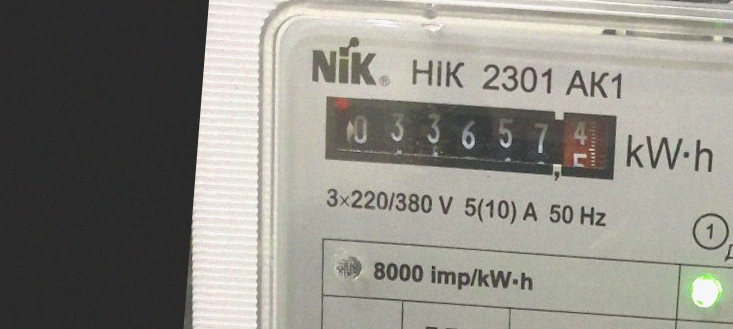0: (348, 110, 372, 148)
3: (387, 109, 408, 145), (423, 110, 443, 147)
4: (570, 117, 591, 148)
5: (492, 114, 517, 151)
6: (456, 116, 479, 152)
7: (529, 119, 550, 156)
screen: (309, 85, 627, 191)
